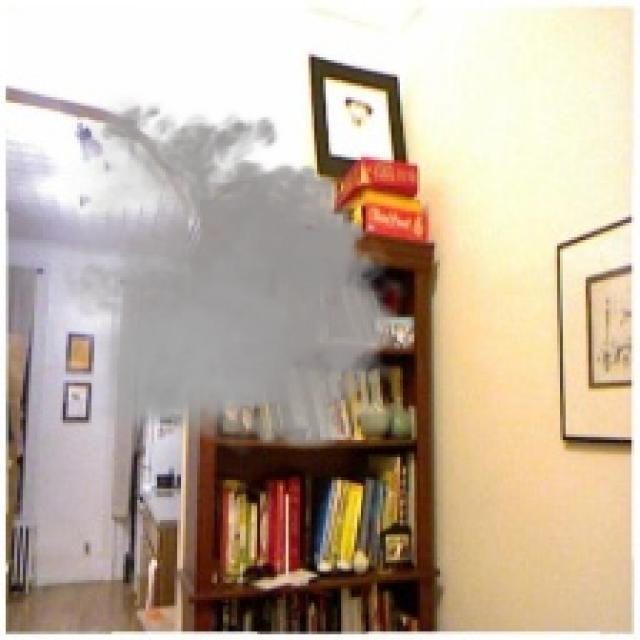Smoke: (39, 91, 414, 463)
